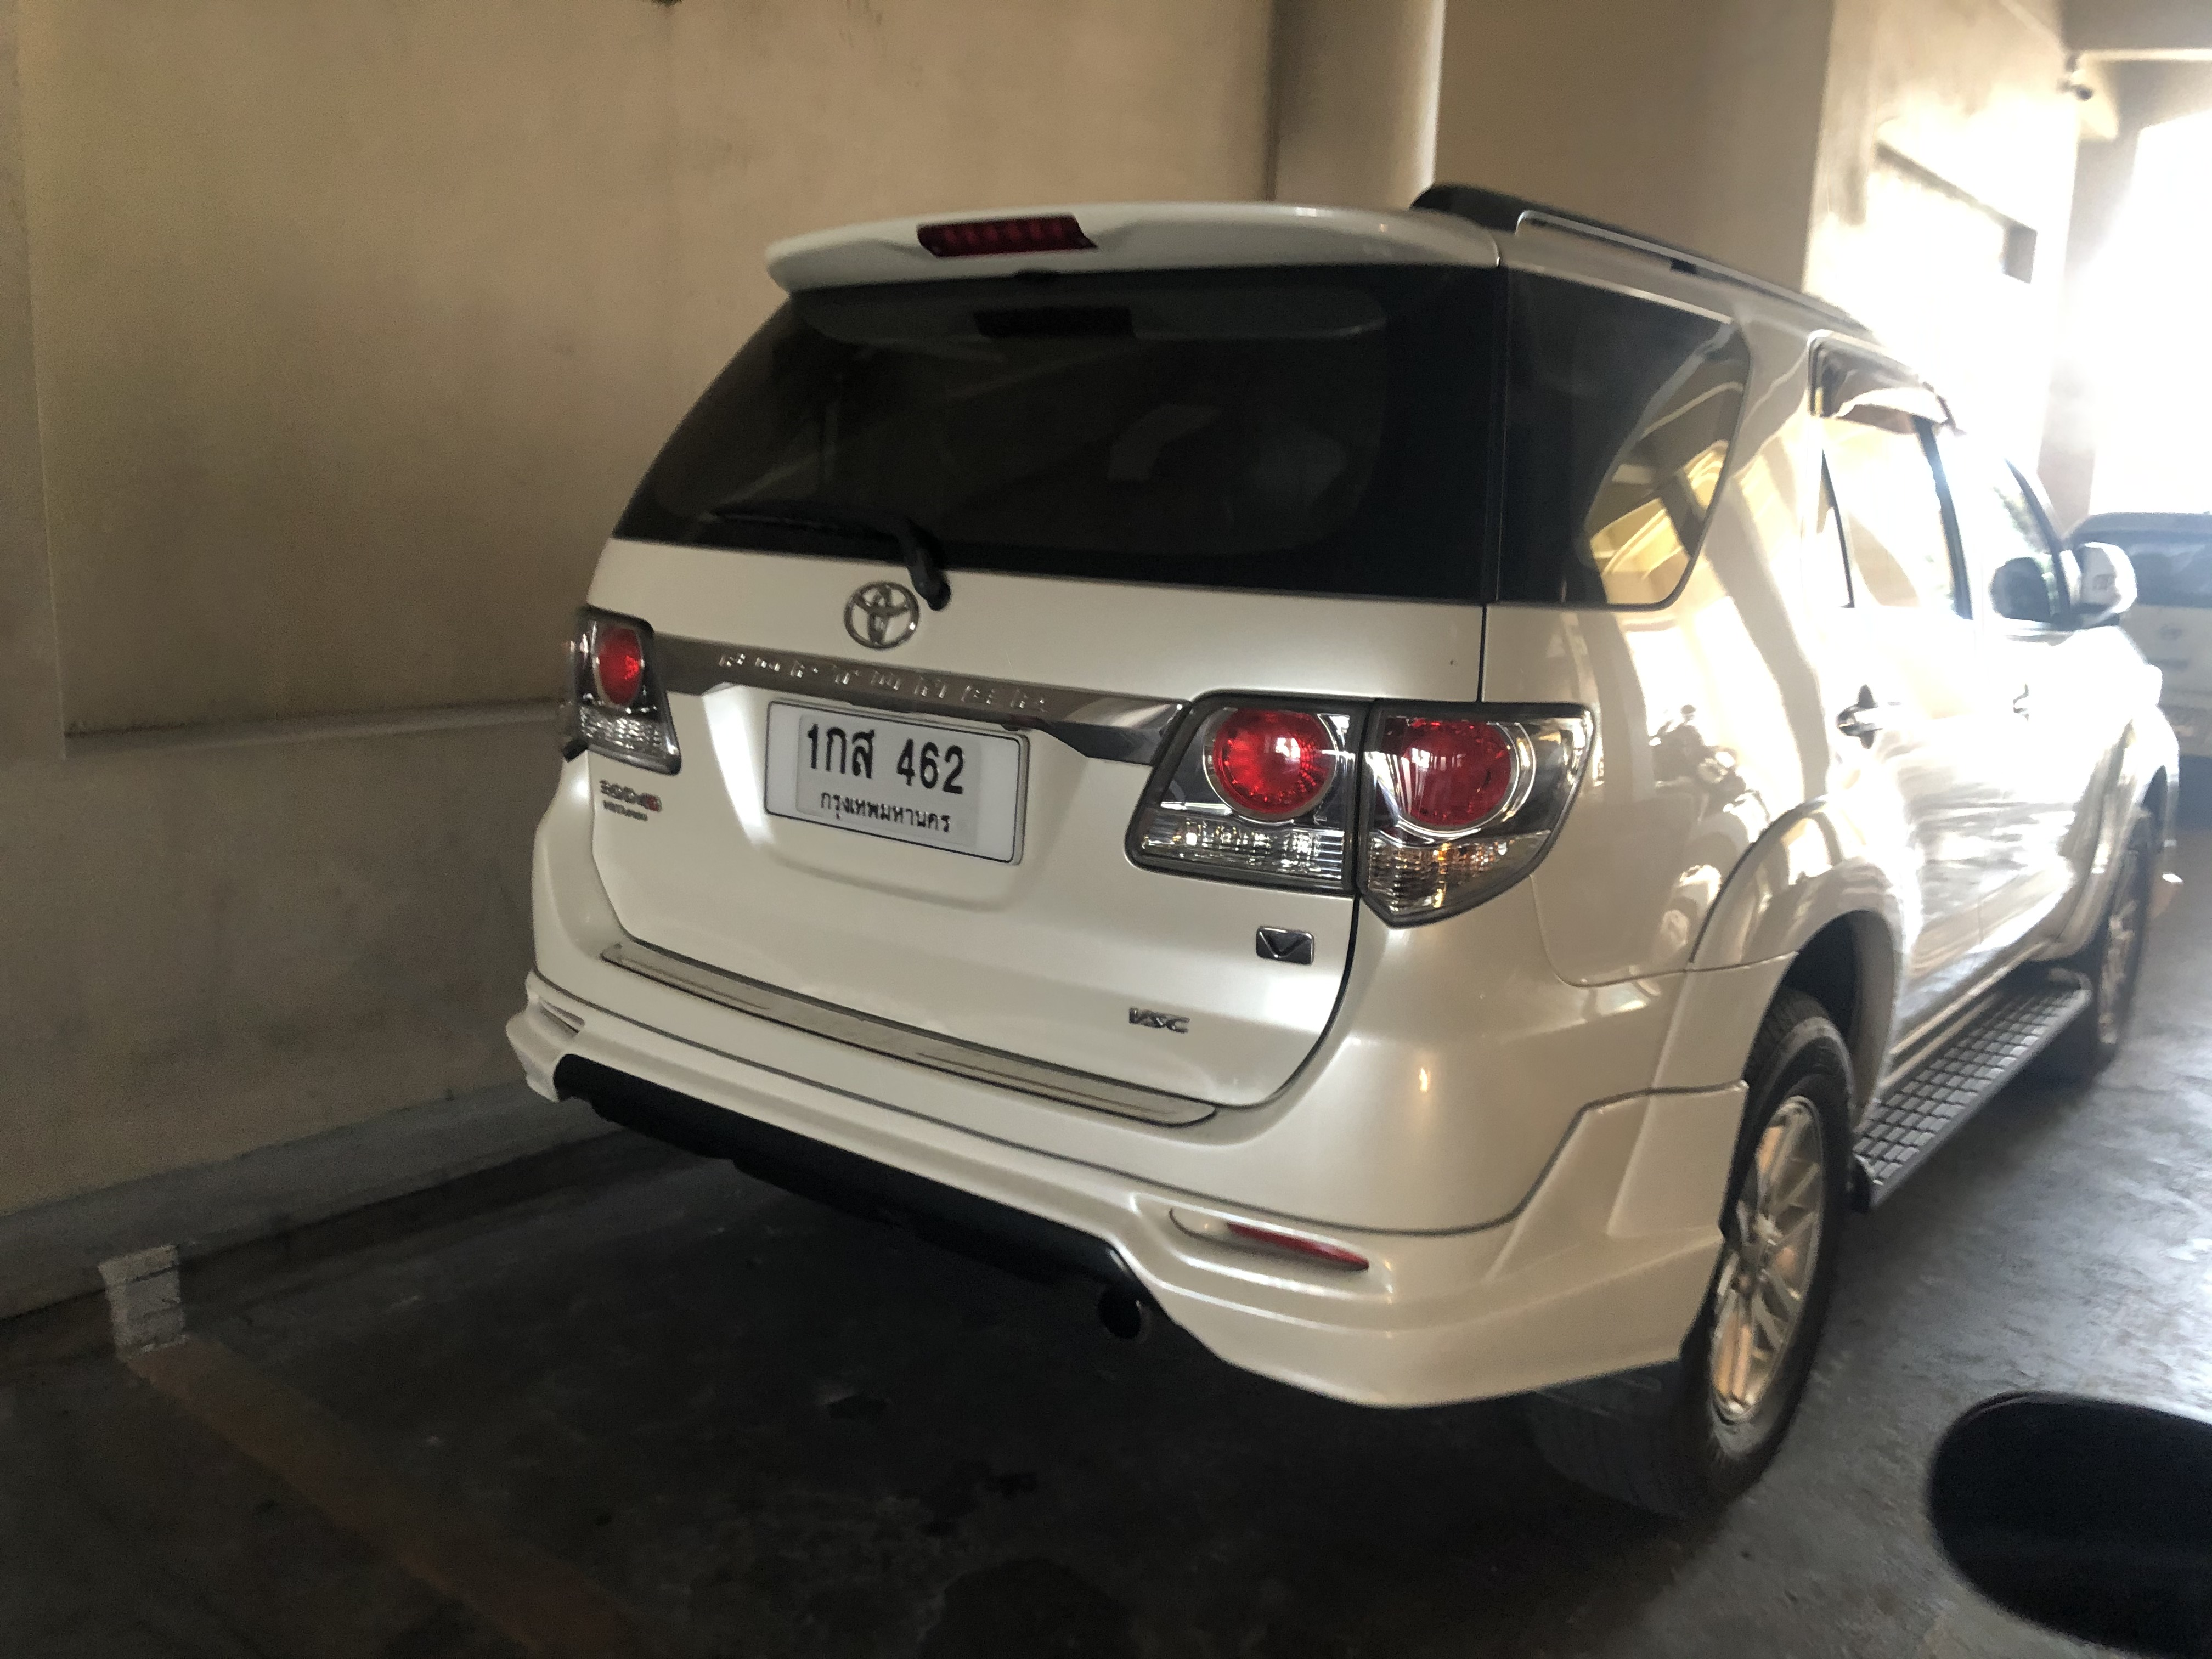in: (798, 709, 979, 857)
out: (763, 697, 1028, 870)
